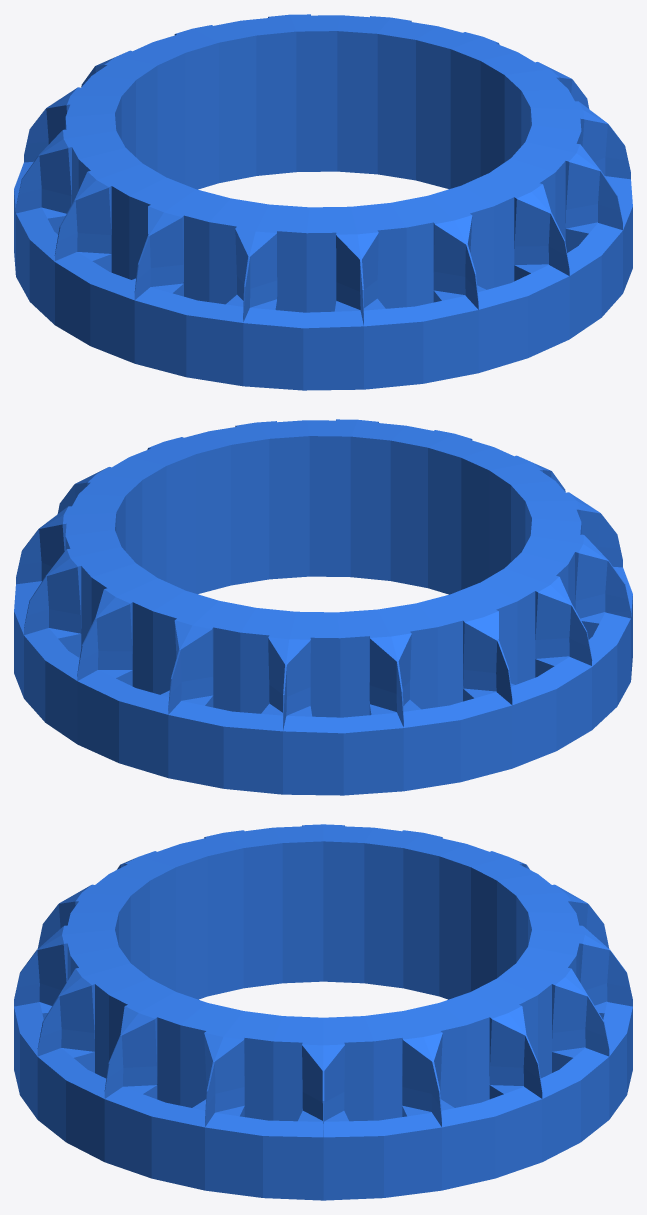
The model's file is Baluminaria-Ring07.fbx.
The picture shows the model from 3 angles, top to bottom: view 1: azimuth 30°, elevation 25°; view 2: azimuth 150°, elevation 25°; view 3: azimuth 270°, elevation 25°; orthographic projection.
Visible parts, largest first — view 1: Ring07-Topo; view 2: Ring07-Topo; view 3: Ring07-Topo.
Boxes of the visible parts, bbox=[...] form: Ring07-Topo: bbox=[14, 14, 632, 390]; Ring07-Topo: bbox=[14, 419, 632, 795]; Ring07-Topo: bbox=[14, 824, 632, 1200].
Size of the model in its own units: 2400 by 600 by 2400.
